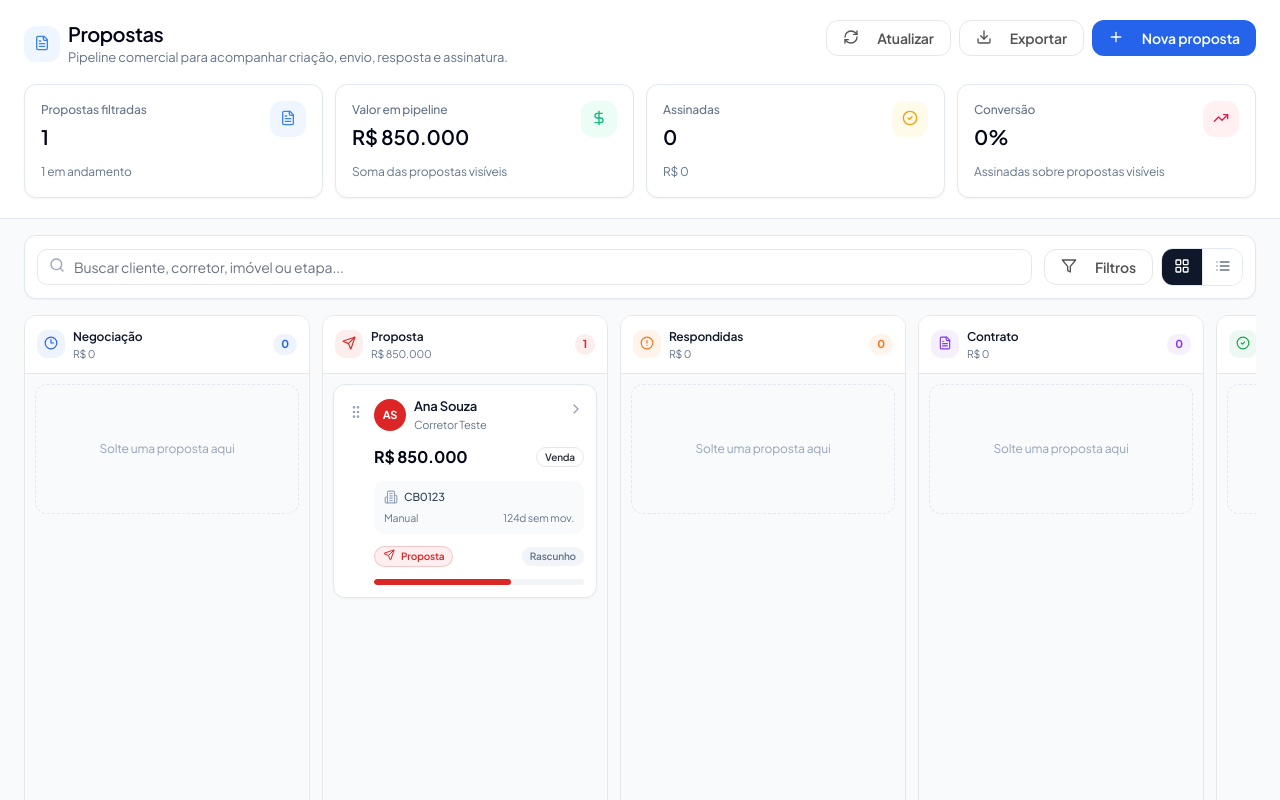
Test: PropostaPage — abrir e fechar dialogs › cancela a criação de nova proposta sem quebrar a página
Step 1. Click the button "Nova proposta" → (1174, 38), box [1092, 20, 1256, 56]
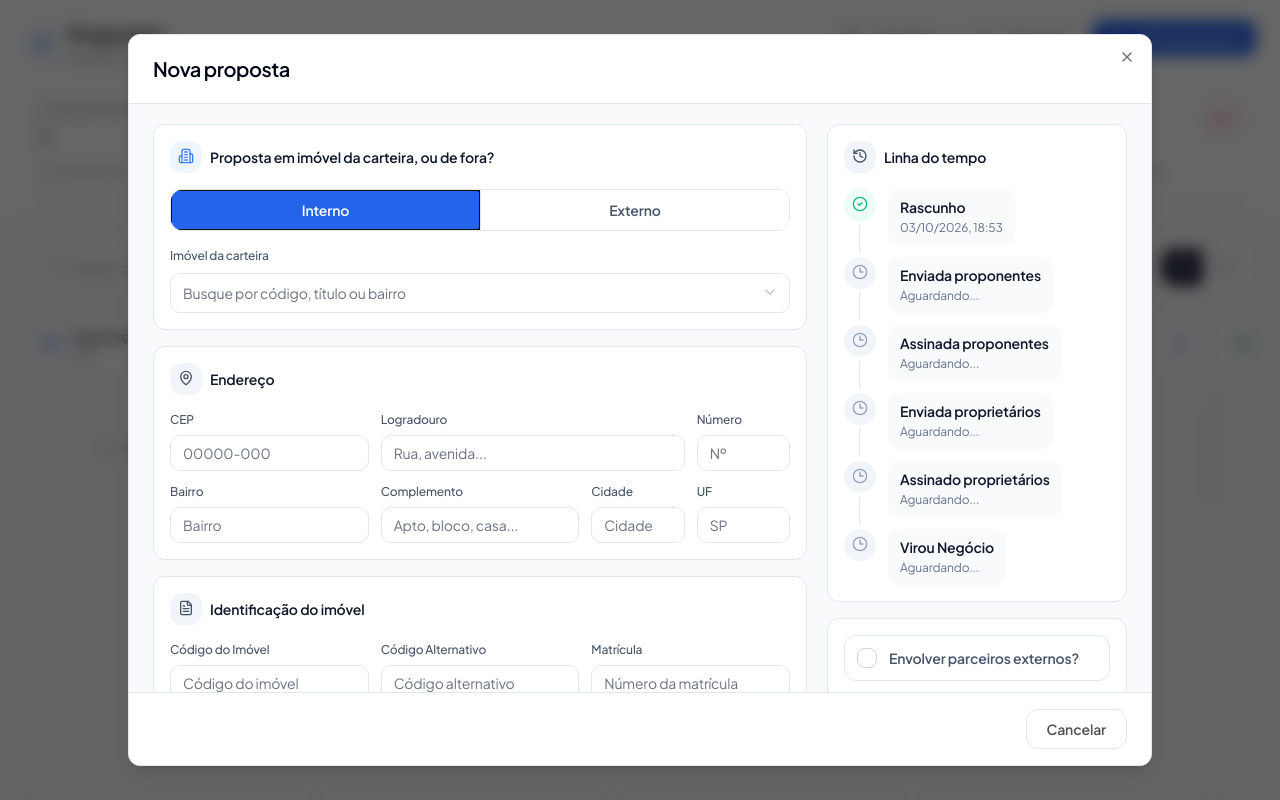
Check: the heading "Proposta em imóvel da carteira, ou de fora?" is shown, box [210, 147, 494, 167]
Step 2. Click the button "Cancelar" → (1076, 729), box [1026, 709, 1127, 749]
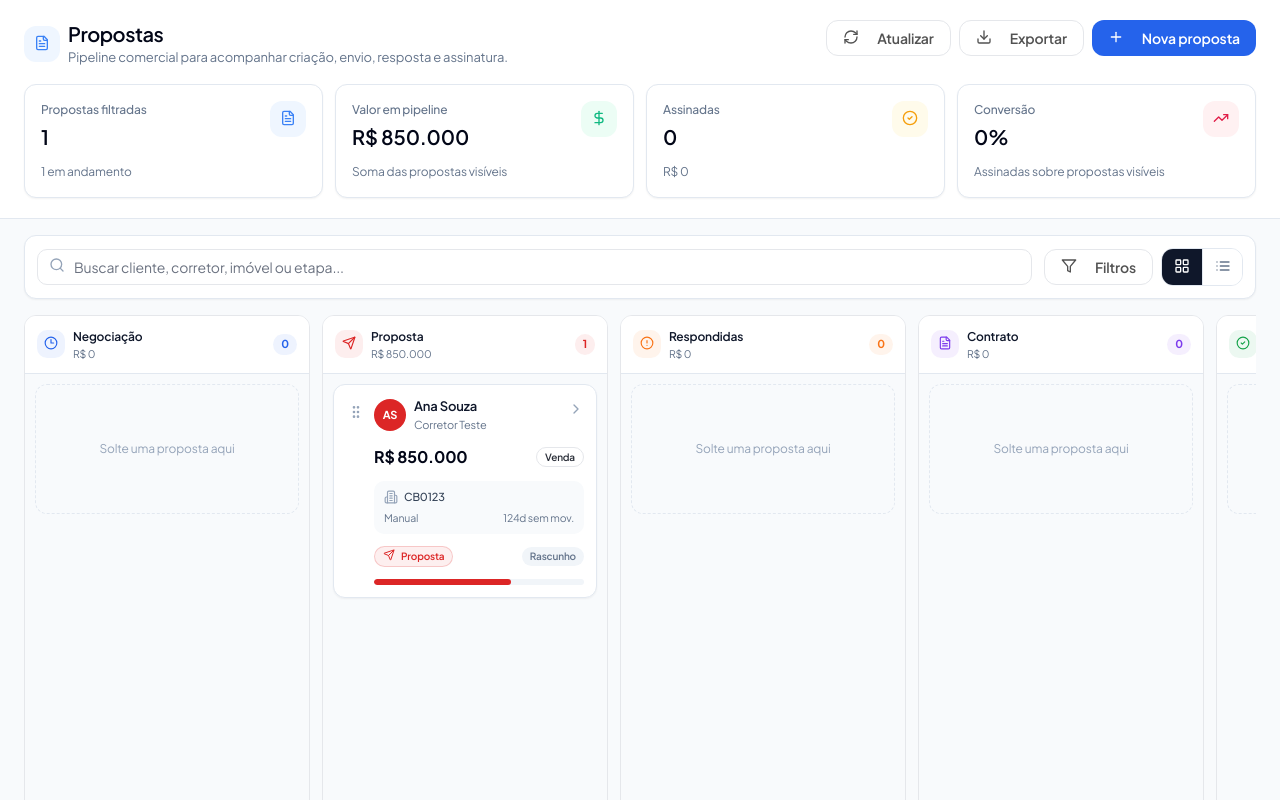
Check: the button "Nova proposta" is shown, box [1092, 20, 1256, 56]
Check: the heading "Proposta em imóvel da carteira, ou de fora?" is gone
